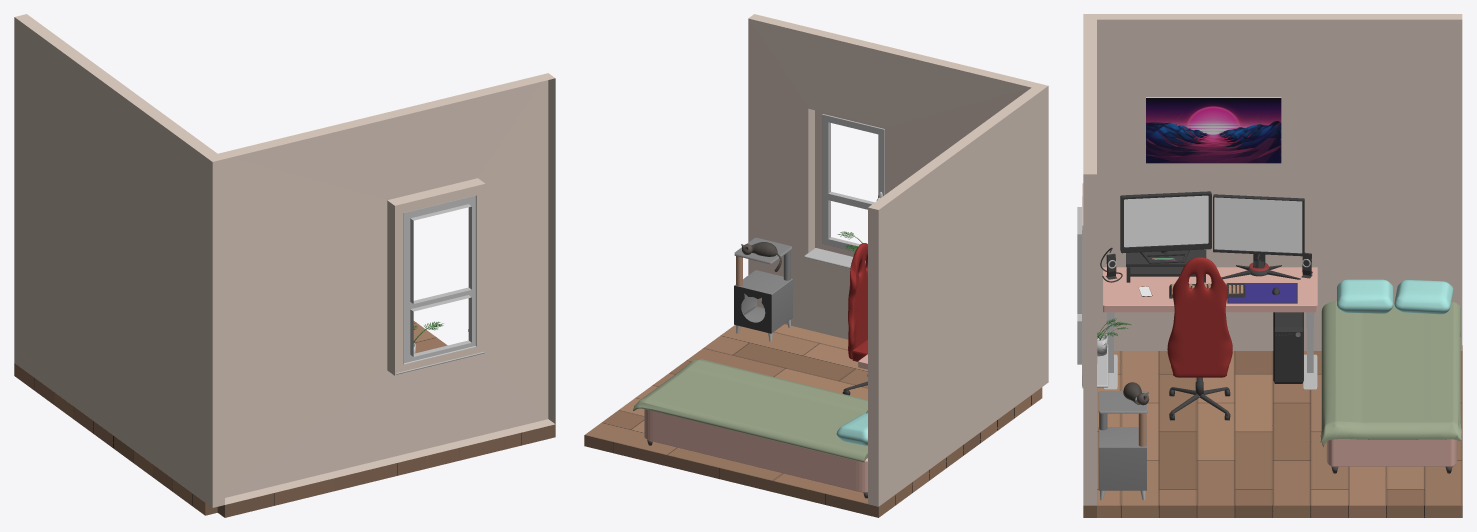
The model's file is roomFinalTexture.glb.
3 renders of one model, left to right at view 1: azimuth 30°, elevation 25°; view 2: azimuth 150°, elevation 25°; view 3: azimuth 270°, elevation 25°, orthographic. The views are drawn at different scales.
Visible parts, largest first — view 1: Plane.005, Plane.002; view 2: Plane.005, Plane.002, Cube.082, Bed, Plane.012, CatHouse, CatHouse.001, Cube.081, Cube.041, Plane.003; view 3: Plane.005, Plane.002, Cube.082, Cube.083, Plane.012, Table, ScreenRighr.001, ScreenLeft.001, Bed, CatHouse, PC, Cube.080 (+9 smaller).
Part boxes in pixels (x1,y1,x2,y2): Plane.005: (14,14,555,507); Plane.002: (14,321,555,517); Plane.005: (748,14,1048,506); Plane.002: (584,324,1042,517); Cube.082: (633,359,867,462); Bed: (644,409,867,492); Plane.012: (848,243,867,359); CatHouse: (735,270,792,332); CatHouse.001: (734,285,771,333); Cube.081: (836,413,867,445); Cube.041: (734,237,791,264); Plane.003: (804,248,853,268); Plane.005: (1077,14,1462,505); Plane.002: (1083,345,1462,517); Cube.082: (1320,301,1461,447); Cube.083: (1146,98,1281,163); Plane.012: (1167,257,1232,377); Table: (1103,267,1317,312); ScreenRighr.001: (1214,197,1302,253); ScreenLeft.001: (1124,195,1208,247); Bed: (1326,439,1457,466); CatHouse: (1098,427,1146,490); PC: (1273,312,1303,383); Cube.080: (1337,279,1393,313).
Bounding box in the file's own units: 8.3 × 8.3 × 8.43.
24 materials, 5 textured.
